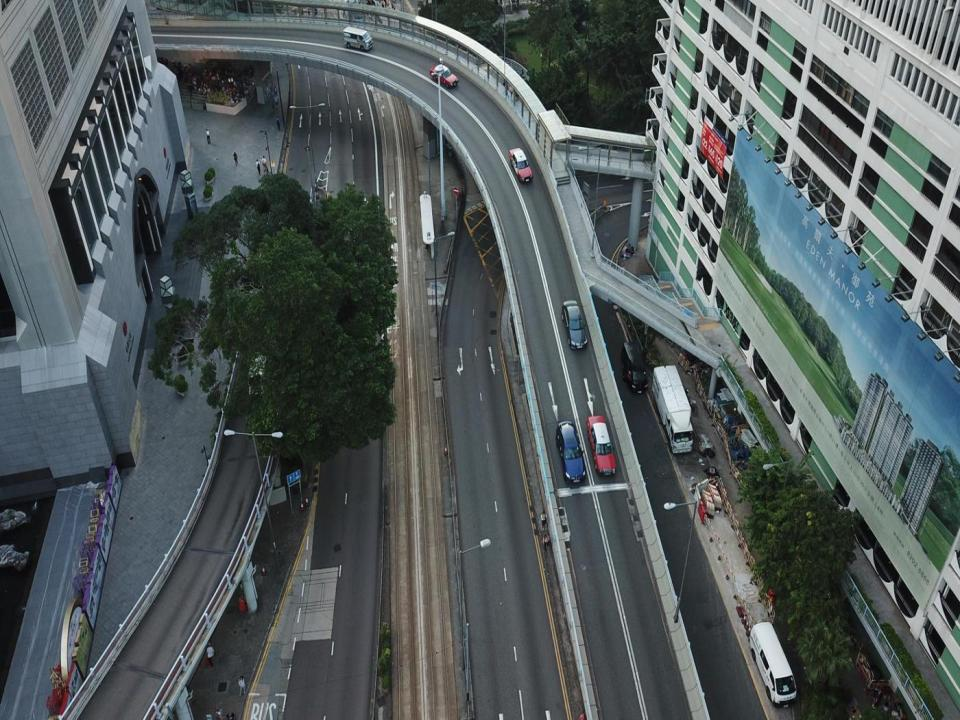bus: (248, 324, 276, 396)
car: (556, 420, 586, 483), (586, 415, 615, 476), (561, 301, 588, 350), (509, 147, 533, 185), (429, 64, 458, 90)
truck: (652, 365, 693, 453)
van: (748, 622, 797, 708), (622, 342, 649, 394), (343, 27, 373, 51)
